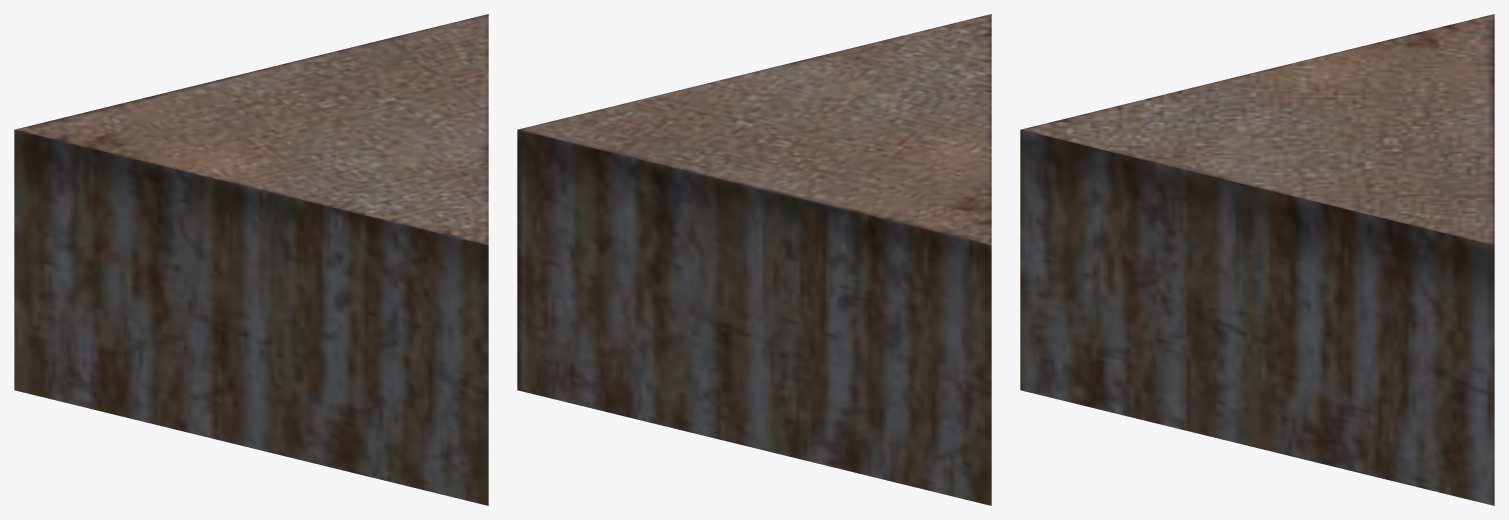
File: metal_foundation_triangle_mid_textured.glb
3 views of the same model, side by side, from view 1: azimuth 30°, elevation 25°; view 2: azimuth 150°, elevation 25°; view 3: azimuth 270°, elevation 25° (orthographic).
Parts seen in each view (by area): view 1: Circle; view 2: Circle; view 3: Circle.
Boxes of the visible parts, <box> form: Circle: <box>14,14,488,505</box>; Circle: <box>517,14,991,505</box>; Circle: <box>1020,14,1494,505</box>.
Bounding box in the file's own units: 2 × 1.05 × 1.73.
1 material, 1 textured.
